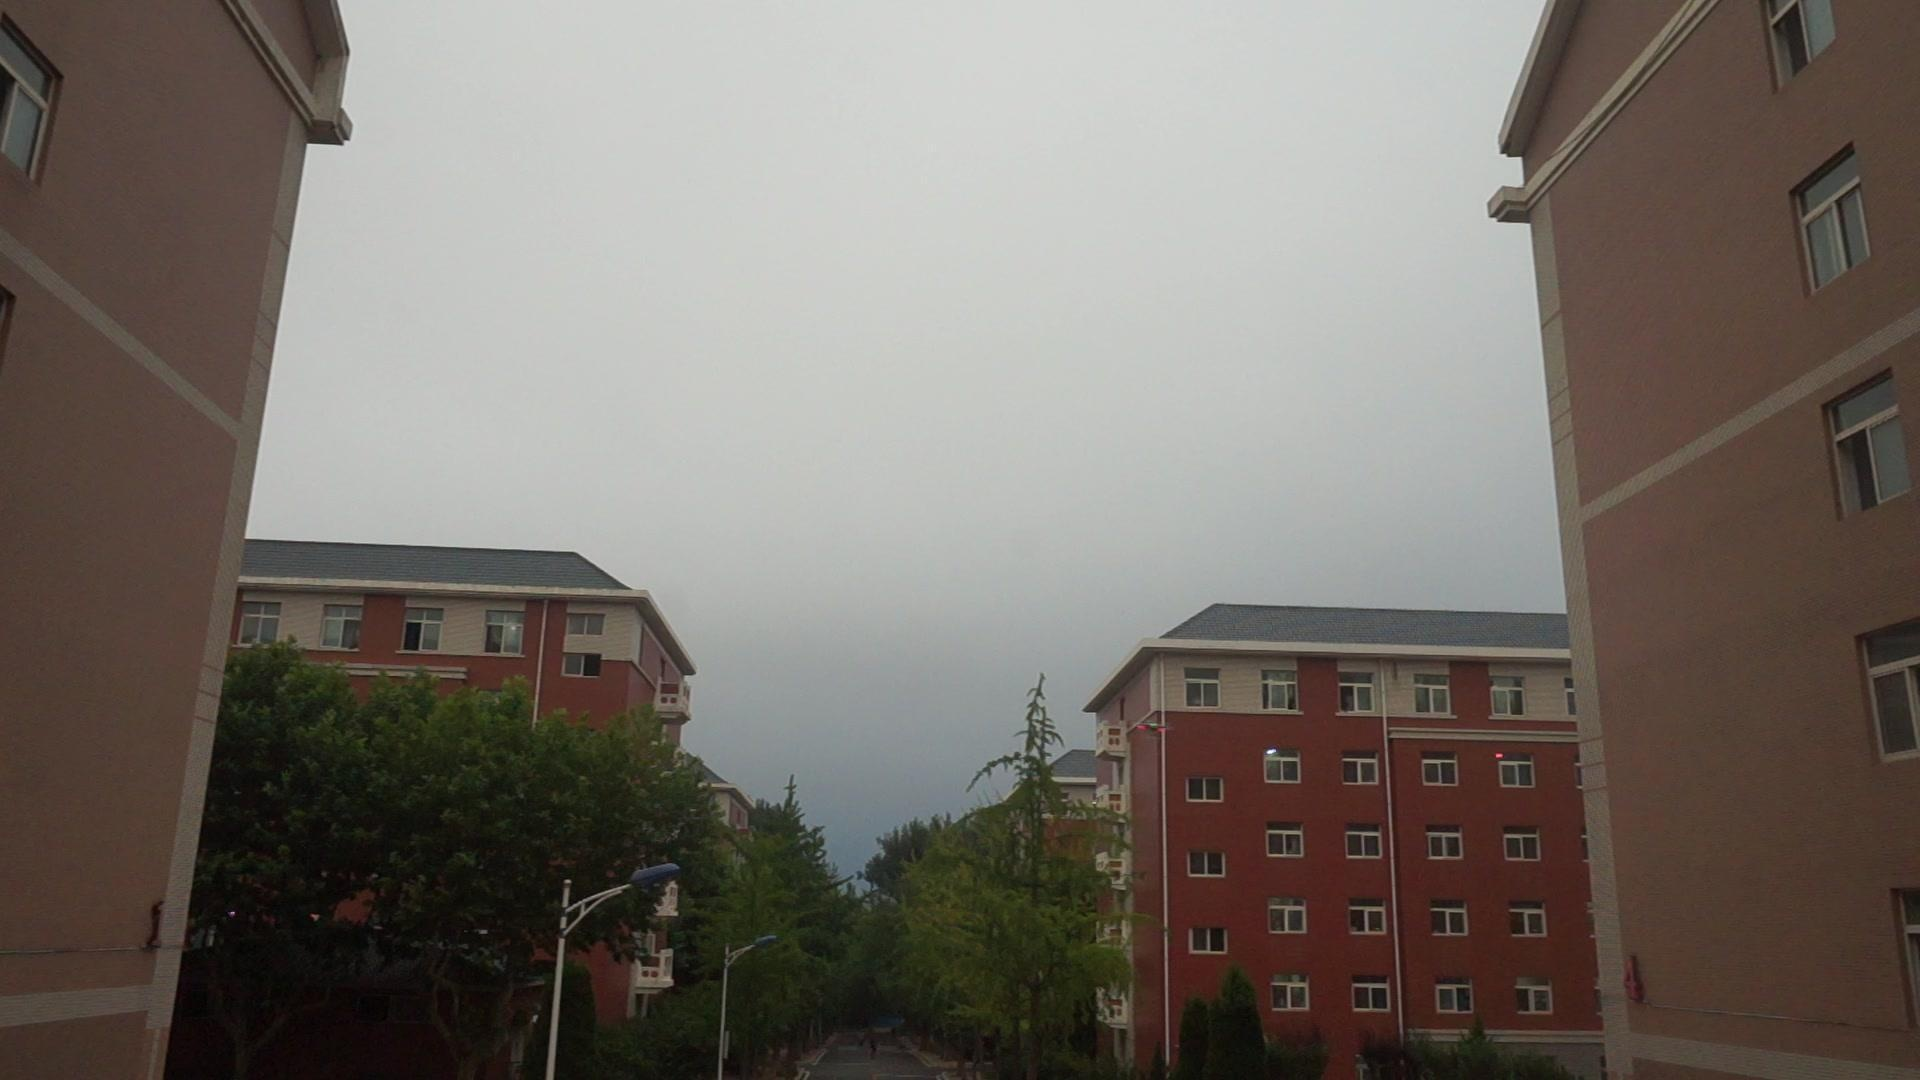UAV: (1134, 723, 1174, 738)
